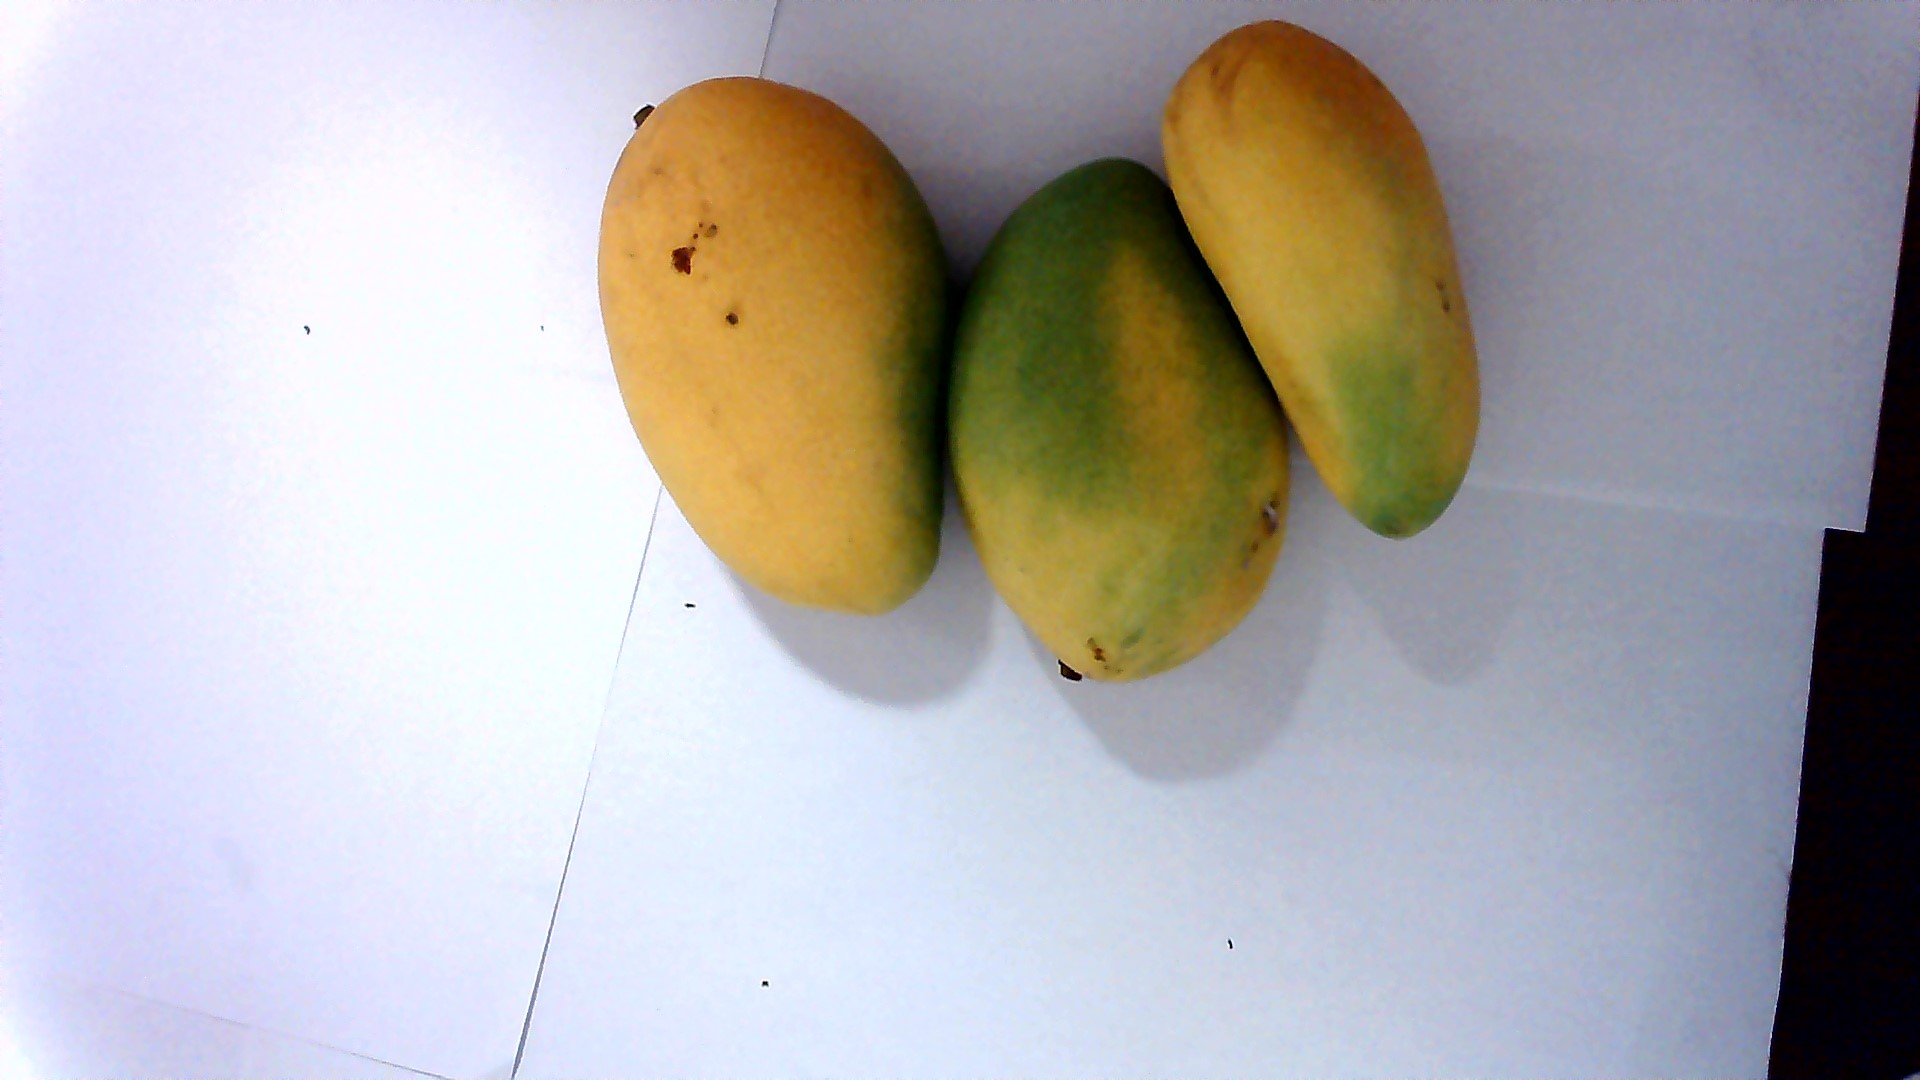mongo: (589, 88, 968, 650), (1172, 42, 1509, 537), (963, 167, 1282, 676)
